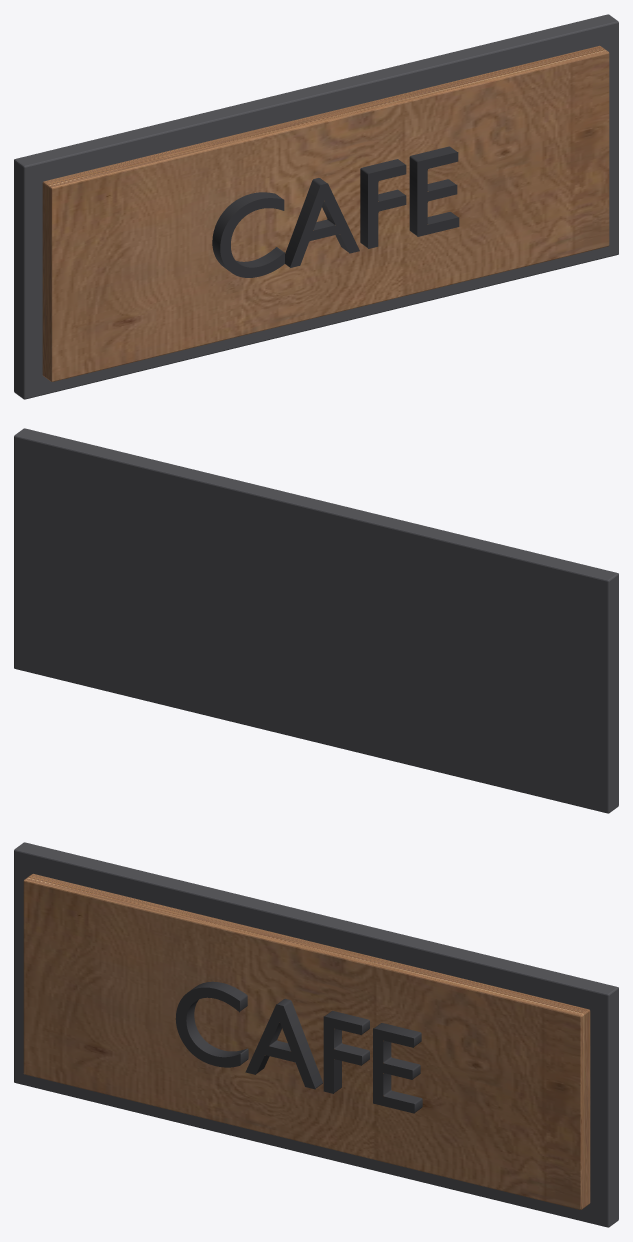
File: signage.glb
The picture shows the model from 3 angles, top to bottom: view 1: azimuth 30°, elevation 25°; view 2: azimuth 150°, elevation 25°; view 3: azimuth 330°, elevation 25°; orthographic projection.
Parts seen in each view (by area): view 1: Signage; view 2: Signage; view 3: Signage.
Part boxes in pixels (bbox=[...]): Signage: bbox=[14, 14, 618, 399]; Signage: bbox=[14, 428, 618, 813]; Signage: bbox=[14, 842, 618, 1227].
Size of the model in its own units: 0.96 by 0.36 by 0.077.
3 materials, 1 textured.
